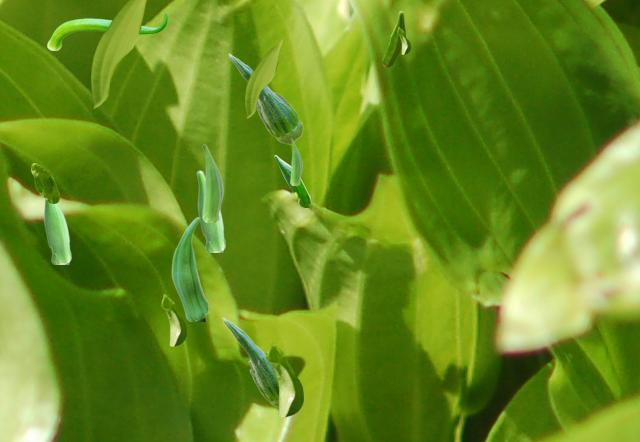okra: (228, 53, 302, 143), (222, 317, 277, 407), (47, 12, 166, 49), (171, 216, 207, 320), (196, 170, 224, 251), (274, 155, 309, 206), (43, 199, 70, 263), (202, 144, 222, 221), (382, 11, 404, 66), (290, 138, 301, 184)
